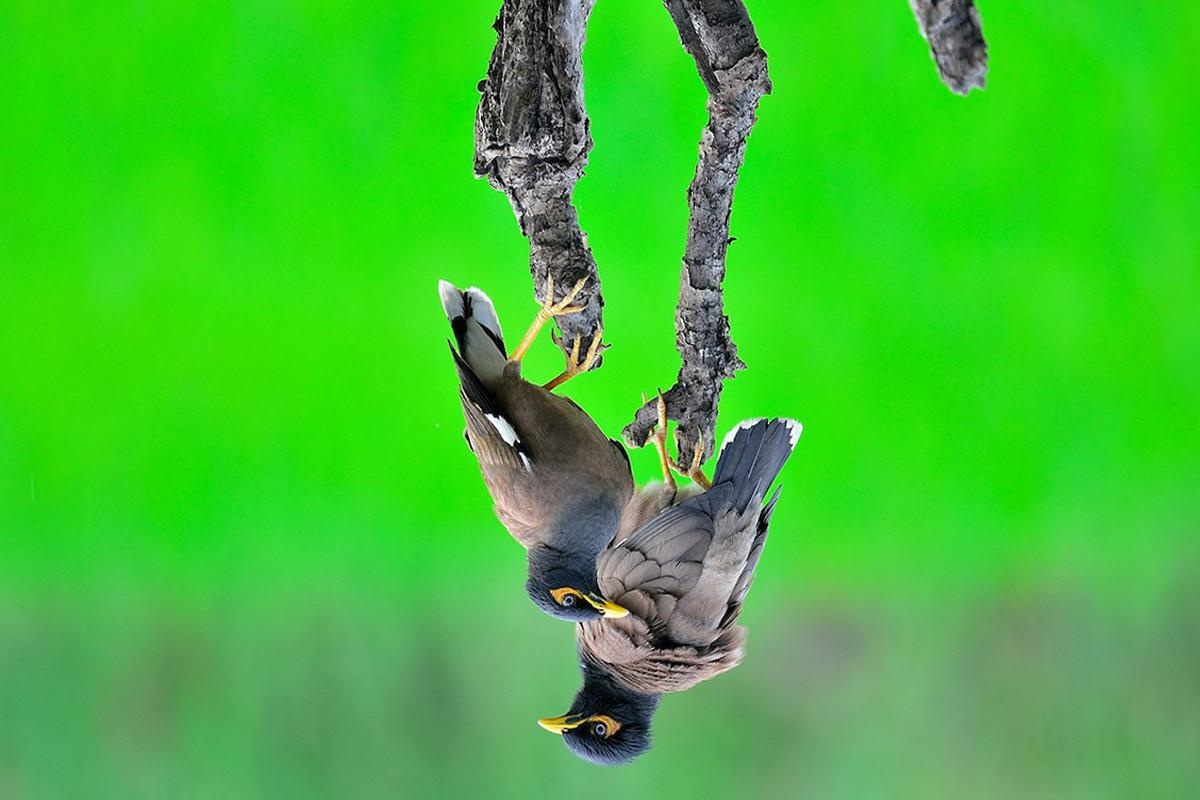myna: (537, 436, 805, 775), (437, 312, 655, 642)
